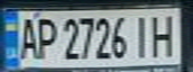2: (57, 14, 81, 61), (93, 14, 115, 61)
6: (109, 12, 133, 60)
7: (75, 14, 96, 61)
A: (15, 14, 39, 61)
H: (148, 10, 181, 57)
I: (130, 12, 154, 60)
P: (33, 15, 57, 61)
